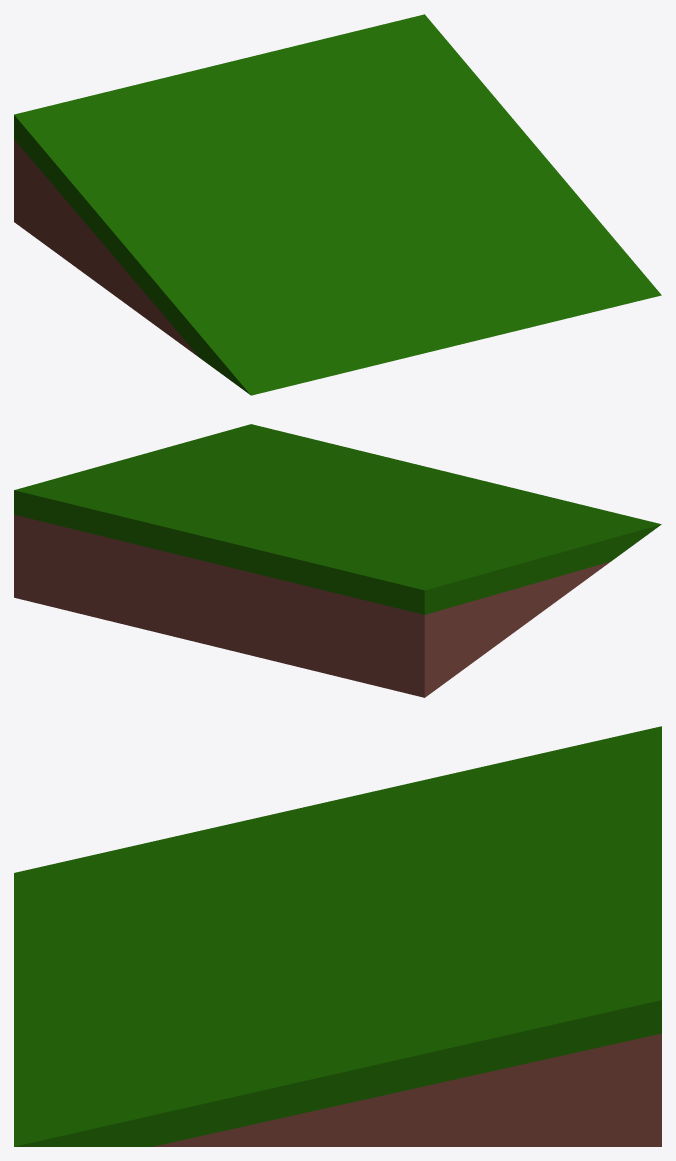
File: Plain_Grass_Large_Slope.glb
3 views of the same model, one above another, from view 1: azimuth 30°, elevation 25°; view 2: azimuth 150°, elevation 25°; view 3: azimuth 270°, elevation 25° (orthographic). The views are drawn at different scales.
Parts seen in each view (by area): view 1: Plain Grass Large Slope; view 2: Plain Grass Large Slope; view 3: Plain Grass Large Slope.
Part boxes in pixels (x1,y1,x2,y2): Plain Grass Large Slope: [14, 14, 661, 395]; Plain Grass Large Slope: [14, 424, 661, 697]; Plain Grass Large Slope: [14, 726, 661, 1146].
Bounding box in the file's own units: 4 × 1 × 4.
1 material, 1 textured.
